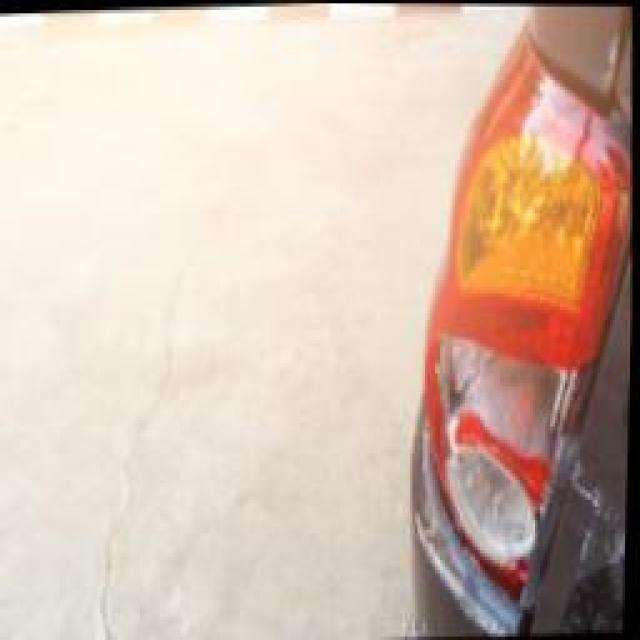Dickey: (552, 460, 631, 631)
Light: (412, 77, 606, 561)
